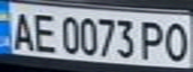0: (57, 12, 81, 55), (78, 14, 100, 56)
3: (115, 16, 139, 58)
7: (93, 15, 118, 57)
A: (6, 8, 36, 52)
E: (30, 9, 60, 54)
O: (160, 19, 193, 63)
P: (136, 17, 169, 61)
